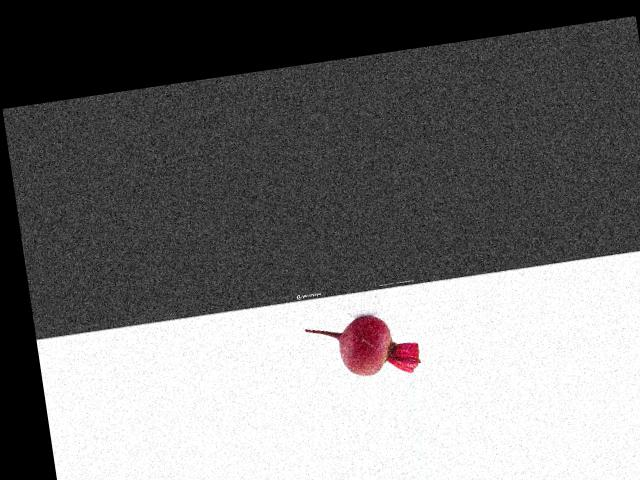beet: (304, 308, 422, 386)
